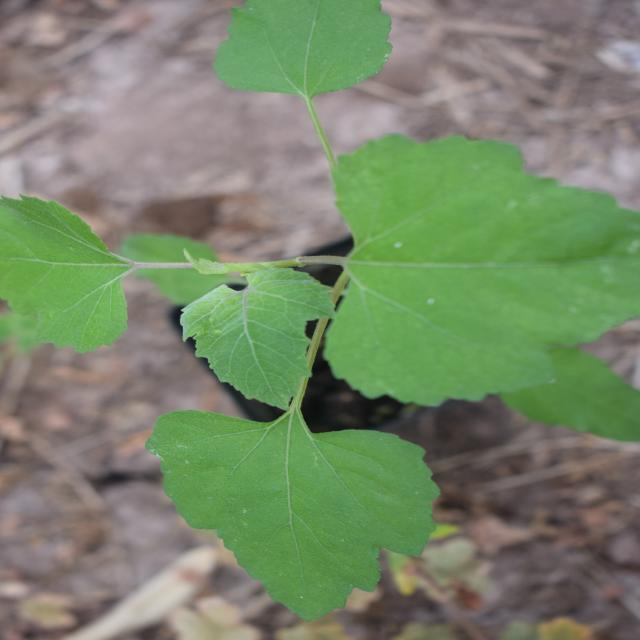cocklebur: (26, 21, 613, 576)
